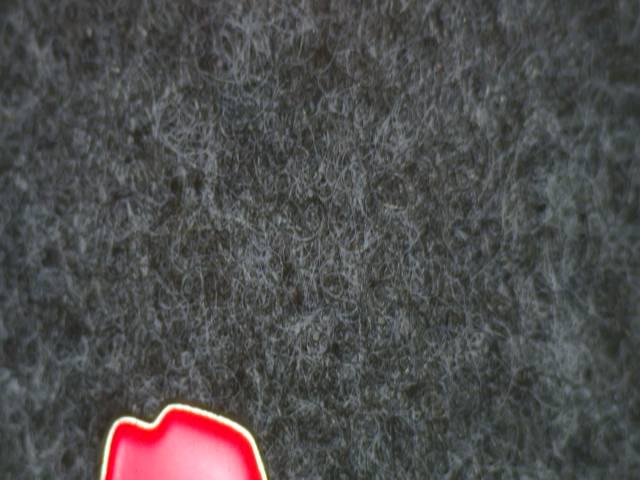Red-Hat: (78, 386, 283, 480)
